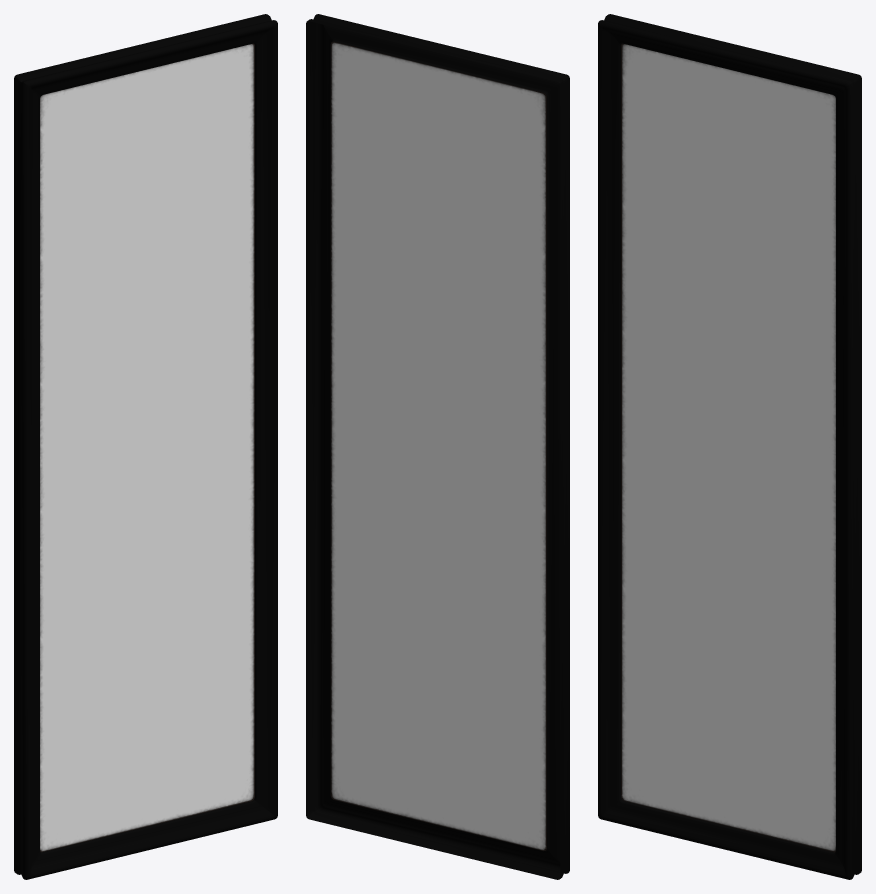
File: MirrorBG.glb
3 views of the same model, side by side, from view 1: azimuth 30°, elevation 25°; view 2: azimuth 150°, elevation 25°; view 3: azimuth 330°, elevation 25° (orthographic).
Parts seen in each view (by area): view 1: Cube_LongMirror_0.006, Cube_LongMirror_0.002, Cube_LongMirror_0, Cube_LongMirror_0.003, Cube_LongMirror_0.004, Cube_LongMirror_0.005; view 2: Cube_LongMirror_0.006, Cube_LongMirror_0, Cube_LongMirror_0.002, Cube_LongMirror_0.004, Cube_LongMirror_0.003, Cube_LongMirror_0.001, Cube_LongMirror_0.005; view 3: Cube_LongMirror_0.006, Cube_LongMirror_0, Cube_LongMirror_0.002, Cube_LongMirror_0.003, Cube_LongMirror_0.004, Cube_LongMirror_0.005.
Boxes of the visible parts, x1,y1,x2,y2 form: Cube_LongMirror_0.006: [40, 43, 254, 852]; Cube_LongMirror_0.002: [14, 76, 40, 879]; Cube_LongMirror_0: [254, 22, 277, 817]; Cube_LongMirror_0.003: [25, 800, 276, 879]; Cube_LongMirror_0.004: [21, 20, 276, 95]; Cube_LongMirror_0.005: [15, 14, 271, 81]; Cube_LongMirror_0.006: [330, 41, 546, 850]; Cube_LongMirror_0: [306, 21, 332, 817]; Cube_LongMirror_0.002: [546, 76, 569, 878]; Cube_LongMirror_0.004: [313, 14, 568, 93]; Cube_LongMirror_0.003: [313, 798, 567, 873]; Cube_LongMirror_0.001: [307, 812, 560, 879]; Cube_LongMirror_0.005: [307, 19, 563, 82]; Cube_LongMirror_0.006: [621, 43, 835, 852]; Cube_LongMirror_0: [835, 76, 861, 879]; Cube_LongMirror_0.002: [598, 22, 621, 817]; Cube_LongMirror_0.003: [599, 800, 850, 879]; Cube_LongMirror_0.004: [599, 20, 854, 95]; Cube_LongMirror_0.005: [604, 14, 860, 81].
Bounding box in the file's own units: 0.4 × 1.2 × 0.03.
Materials: 2 (1 with a texture image).
